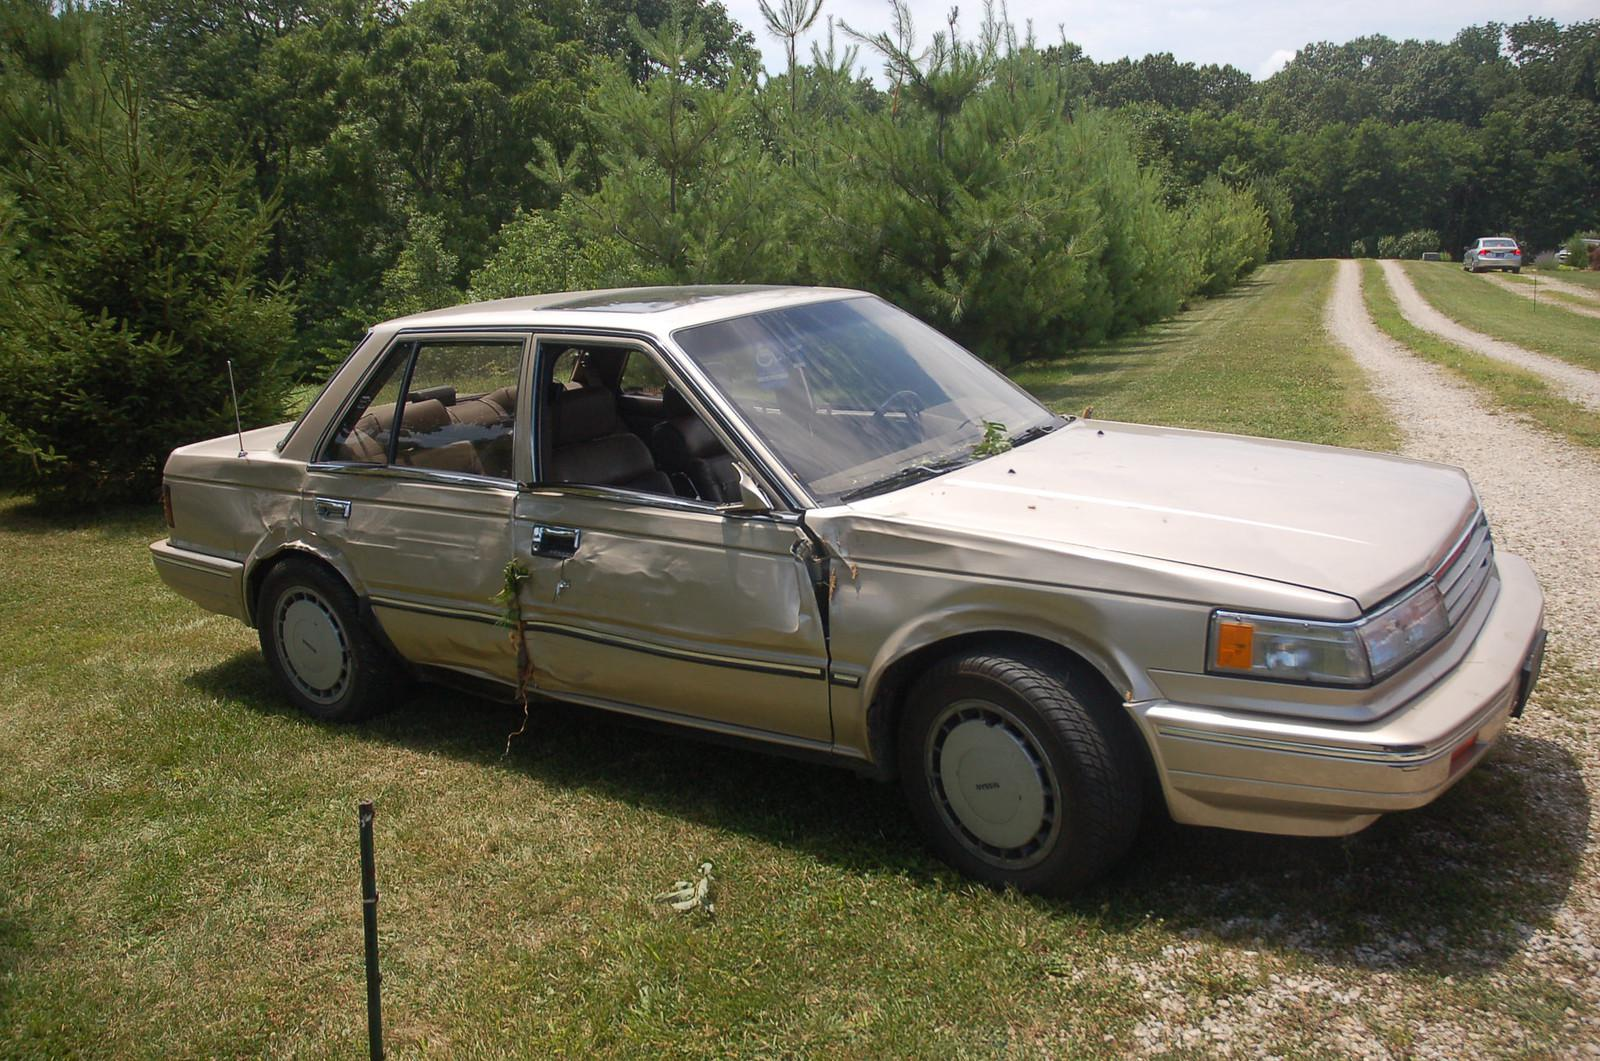doorouter-dent: (541, 382, 801, 690)
